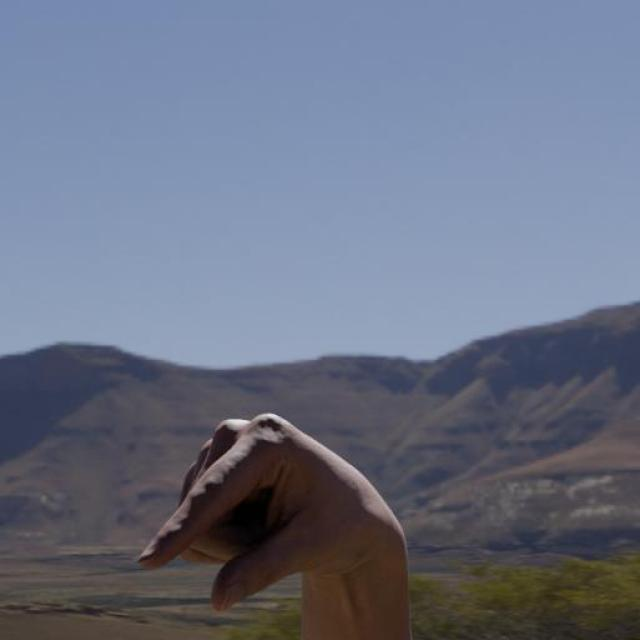Q: (129, 408, 415, 616)
